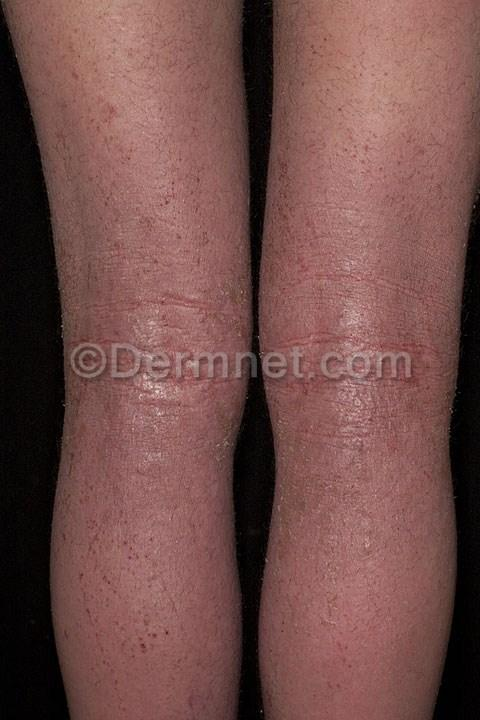Eritema 2: (45, 152, 479, 719)
exudacion 1: (58, 482, 195, 706), (92, 172, 210, 249)
xerosis 2: (255, 295, 310, 567), (50, 188, 79, 522), (215, 263, 258, 462)
